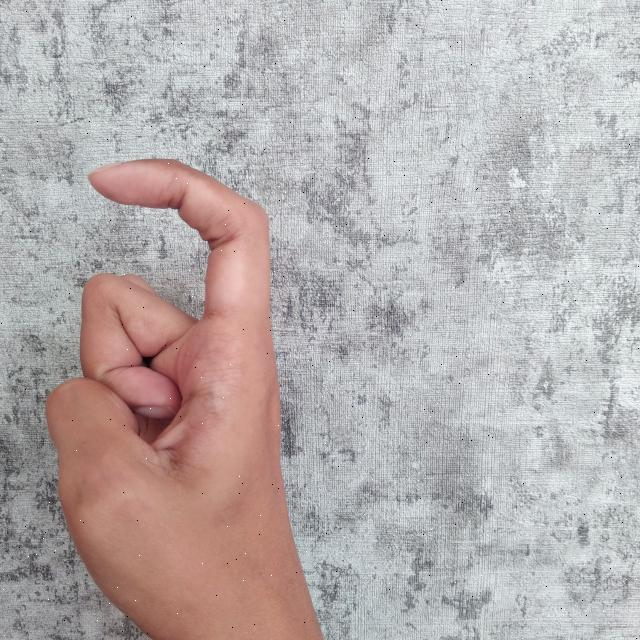X: (42, 143, 325, 640)
